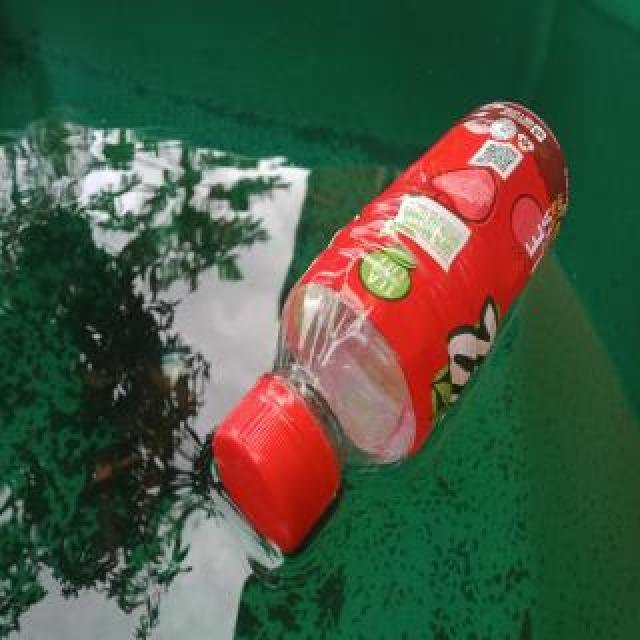bottle: (211, 99, 568, 555)
